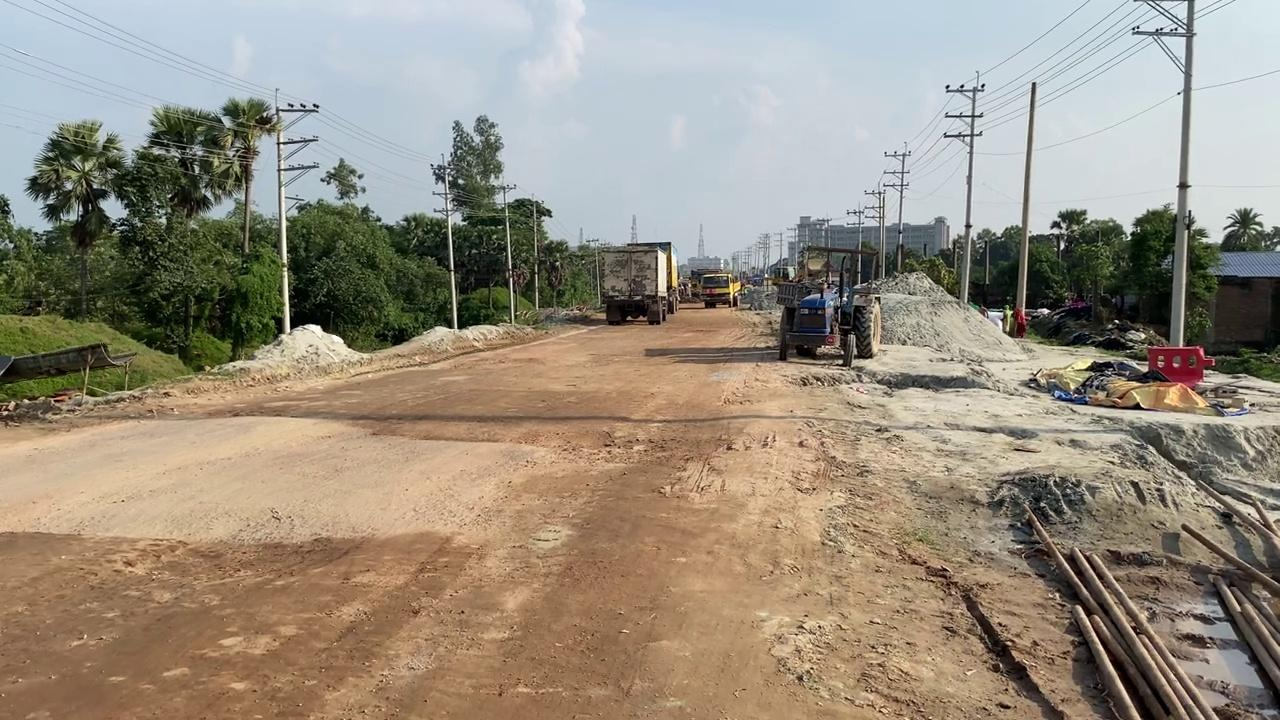Fence: (1018, 476, 1278, 718)
Garbage: (1027, 355, 1248, 416)
Garbage-bin: (1146, 344, 1215, 387)
Muddy road: (1, 296, 1277, 718)
Pole: (1168, 0, 1195, 347), (1013, 80, 1036, 337), (274, 88, 291, 334)
Traffic-sign: (127, 101, 236, 365), (23, 117, 127, 319), (205, 95, 283, 360)
Tree: (775, 244, 881, 367), (597, 240, 678, 325), (698, 272, 742, 308), (763, 257, 794, 293), (688, 267, 720, 301)
